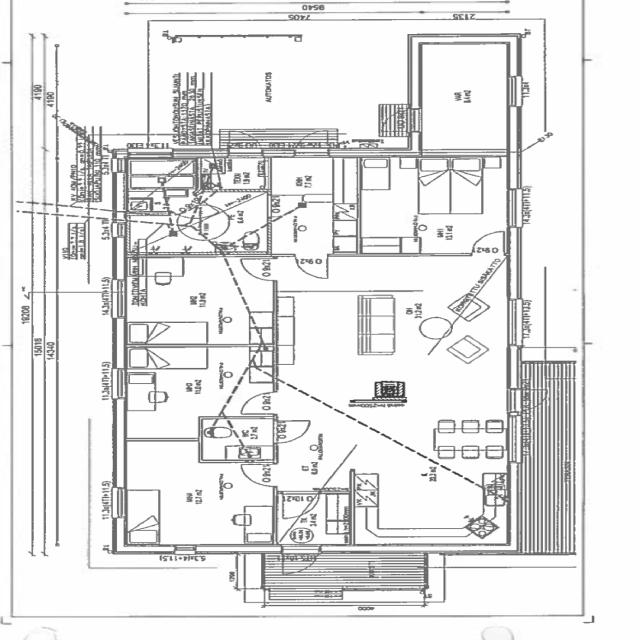door: (278, 544, 323, 577), (274, 489, 320, 520), (236, 389, 280, 417), (467, 228, 509, 255), (292, 130, 332, 156), (272, 418, 312, 444), (292, 253, 329, 281), (238, 462, 276, 488), (225, 129, 264, 154), (239, 255, 275, 282), (270, 194, 301, 214)
window: (500, 296, 526, 350), (500, 186, 526, 231), (107, 487, 128, 522), (502, 73, 522, 109), (109, 367, 128, 403), (109, 286, 128, 322), (501, 388, 525, 416), (169, 542, 199, 557), (260, 148, 296, 159)
zone: (273, 251, 514, 489), (269, 156, 512, 250), (111, 439, 275, 550), (117, 345, 275, 439), (123, 256, 274, 346), (418, 40, 513, 153), (351, 488, 519, 546), (128, 189, 269, 254), (196, 416, 278, 462), (282, 489, 350, 544), (430, 416, 508, 455), (197, 153, 269, 191), (123, 155, 194, 189), (124, 187, 192, 214)
